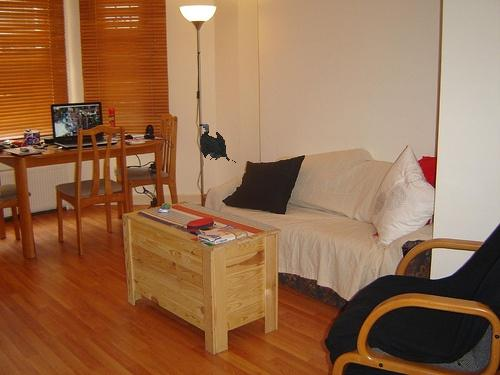tampered: (200, 125, 254, 163)
